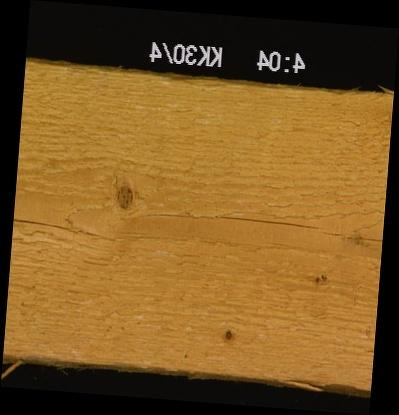small_knot: (311, 267, 331, 288), (221, 325, 236, 343)
split: (132, 214, 382, 235), (12, 219, 118, 241), (112, 179, 136, 211)
